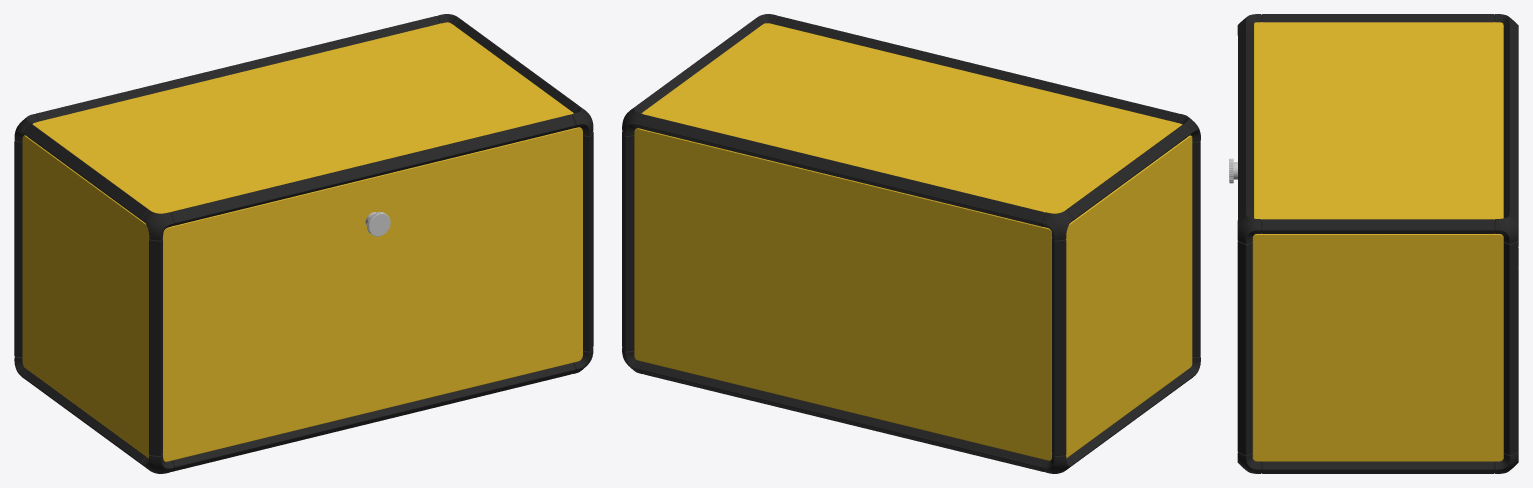
The picture shows the model from 3 angles, left to right: view 1: azimuth 30°, elevation 25°; view 2: azimuth 150°, elevation 25°; view 3: azimuth 270°, elevation 25°; orthographic projection. The views are drawn at different scales.
Parts seen in each view (by area): view 1: 729x374x374; view 2: 729x374x374; view 3: 729x374x374.
Boxes of the visible parts, x1,y1,x2,y2 form: 729x374x374: (14,14,593,473); 729x374x374: (622,14,1200,473); 729x374x374: (1229,14,1518,473).
Size of the model in its own units: 0.8067 by 0.4516 by 0.4646.
